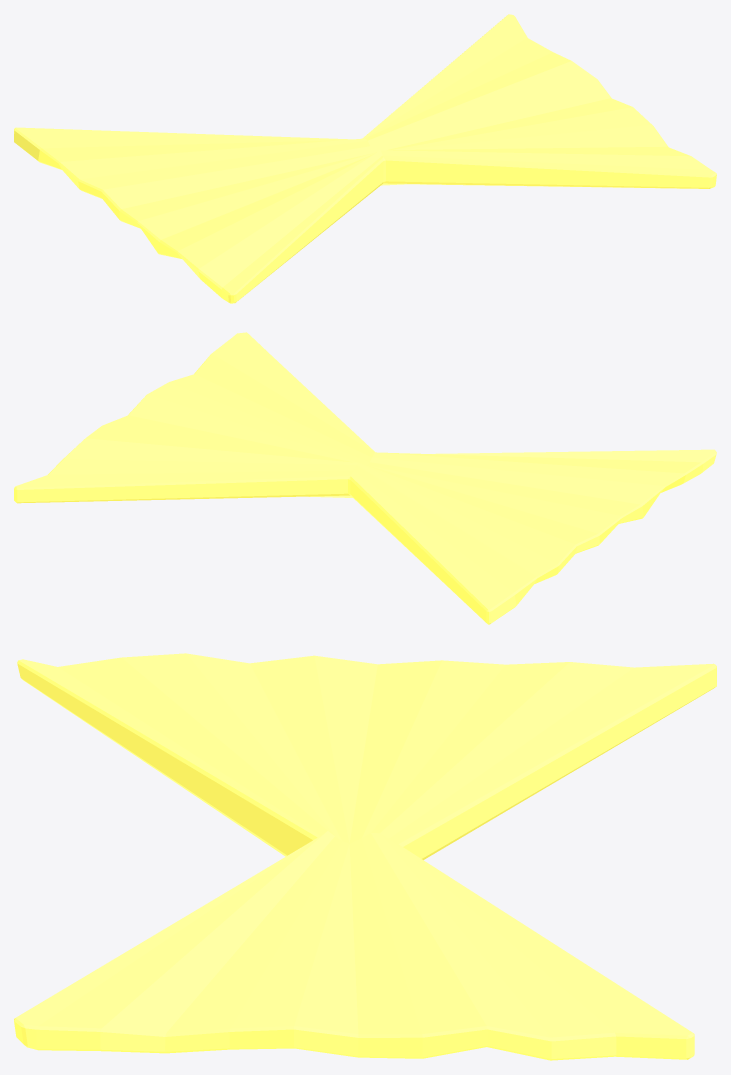
The picture shows the model from 3 angles, top to bottom: view 1: azimuth 30°, elevation 25°; view 2: azimuth 150°, elevation 25°; view 3: azimuth 270°, elevation 25°; orthographic projection. The views are drawn at different scales.
Parts seen in each view (by area): view 1: Plane.012; view 2: Plane.012; view 3: Plane.012.
Part boxes in pixels (left/top/right/bottom): Plane.012: left=14, top=14, right=716, bottom=303; Plane.012: left=14, top=332, right=716, bottom=624; Plane.012: left=14, top=653, right=716, bottom=1060.
Size of the model in its own units: 4.05 by 0.2735 by 3.17.
